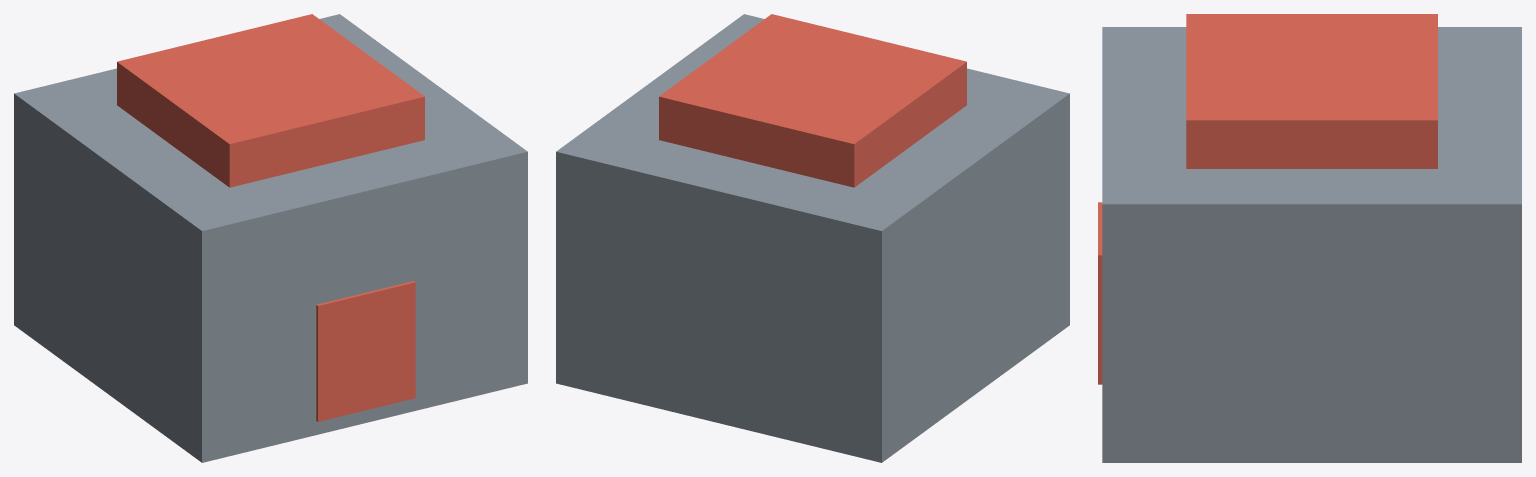
File: SU_SuperweaponDome_LOD0.glb
The picture shows the model from 3 angles, left to right: view 1: azimuth 30°, elevation 25°; view 2: azimuth 150°, elevation 25°; view 3: azimuth 270°, elevation 25°; orthographic projection. The views are drawn at different scales.
Visible parts, largest first — view 1: EntranceGate; view 2: EntranceGate; view 3: EntranceGate.
Boxes of the visible parts, x1=… form: EntranceGate: x1=14, y1=14, x2=527, y2=462; EntranceGate: x1=556, y1=14, x2=1069, y2=462; EntranceGate: x1=1098, y1=14, x2=1521, y2=462.
Size of the model in its own units: 1000 by 808 by 1010.
